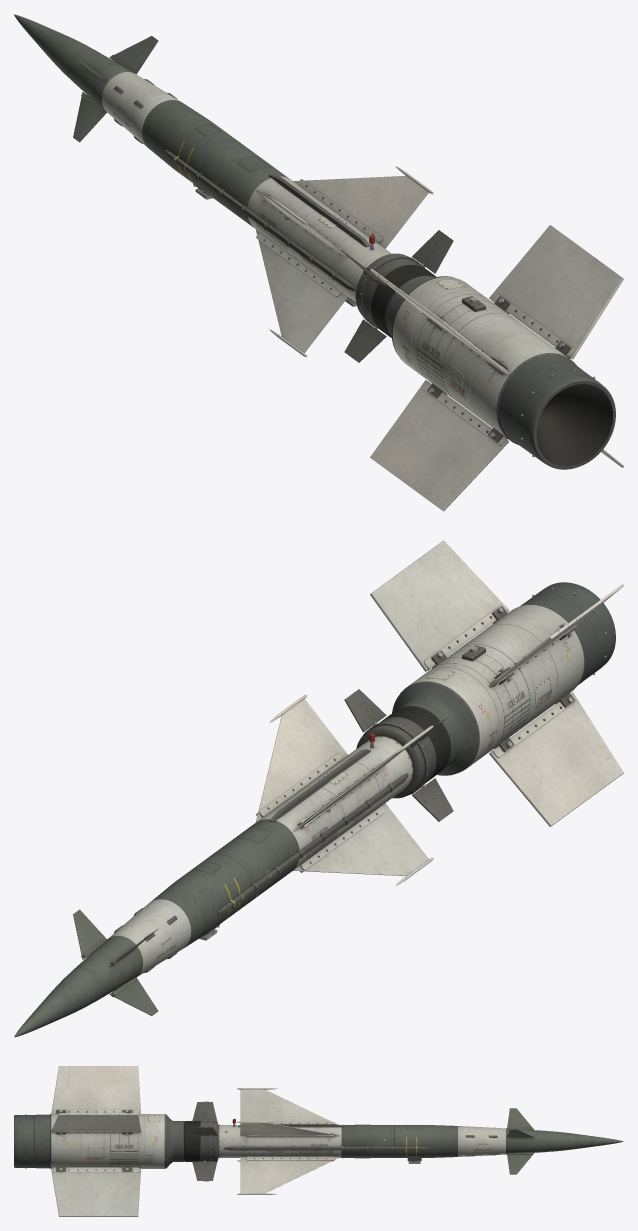
The model's file is msl_s125.glb.
3 renders of one model, top to bottom at view 1: azimuth 30°, elevation 25°; view 2: azimuth 150°, elevation 25°; view 3: azimuth 270°, elevation 25°, orthographic. The views are drawn at different scales.
Visible parts, largest first — view 1: booster|V27_paint, missile|V27_paint; view 2: booster|V27_paint, missile|V27_paint; view 3: booster|V27_paint, missile|V27_paint.
Boxes of the visible parts, x1,y1,x2,y2 form: booster|V27_paint: (355, 225, 623, 511); missile|V27_paint: (14, 14, 453, 362); booster|V27_paint: (356, 540, 623, 826); missile|V27_paint: (14, 689, 453, 1037); booster|V27_paint: (14, 1066, 218, 1216); missile|V27_paint: (192, 1088, 623, 1194).
Bounding box in the file's own units: 1.14 × 1.14 × 6.09.
2 materials, 2 textured.
